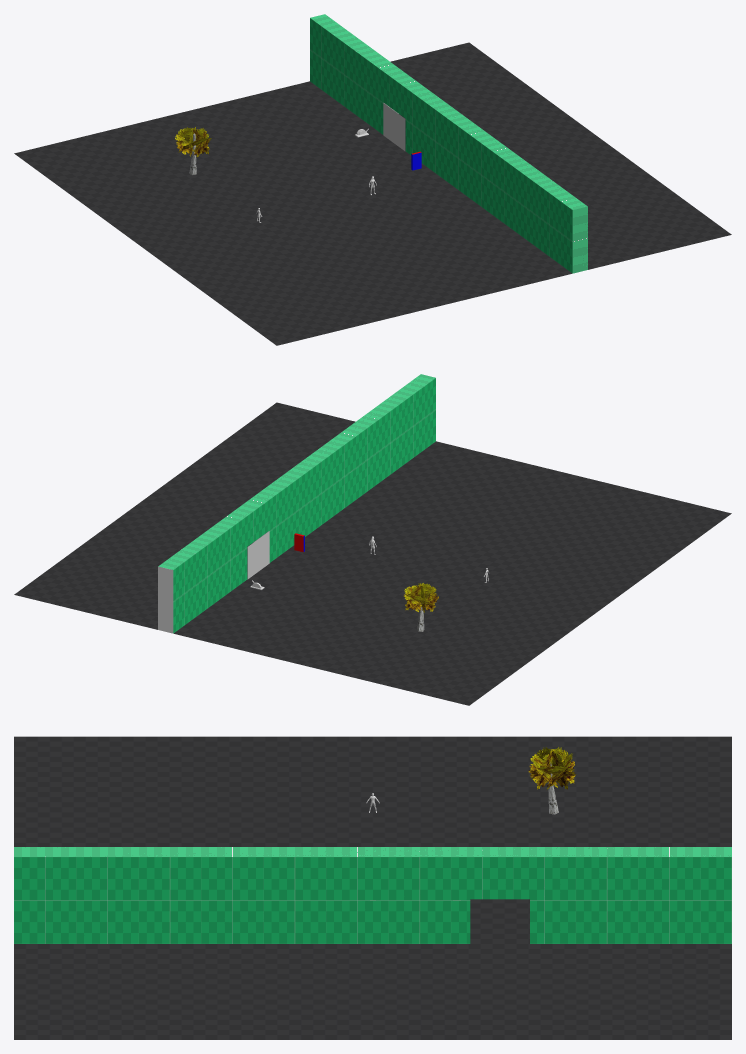
Rendered from MAP BETA1.glb.
The picture shows the model from 3 angles, top to bottom: view 1: azimuth 30°, elevation 25°; view 2: azimuth 150°, elevation 25°; view 3: azimuth 270°, elevation 25°; orthographic projection. The views are drawn at different scales.
Parts seen in each view (by area): view 1: Floor, Beeg Wall, Birch Tree, Lift Door; view 2: Floor, Beeg Wall, Birch Tree, Lift Door; view 3: Floor, Beeg Wall, Birch Tree.
Part boxes in pixels (x1,y1,x2,y2): Floor: [14, 42, 731, 345]; Beeg Wall: [310, 14, 587, 273]; Birch Tree: [175, 127, 211, 175]; Lift Door: [383, 103, 405, 150]; Floor: [14, 402, 731, 705]; Beeg Wall: [158, 374, 435, 633]; Birch Tree: [403, 583, 438, 631]; Lift Door: [247, 531, 269, 579]; Floor: [14, 736, 731, 1039]; Beeg Wall: [14, 847, 731, 943]; Birch Tree: [528, 747, 576, 814].
Size of what is drawn, in the model's own units: 60 by 8.2 by 60.
8 materials, 4 textured.
